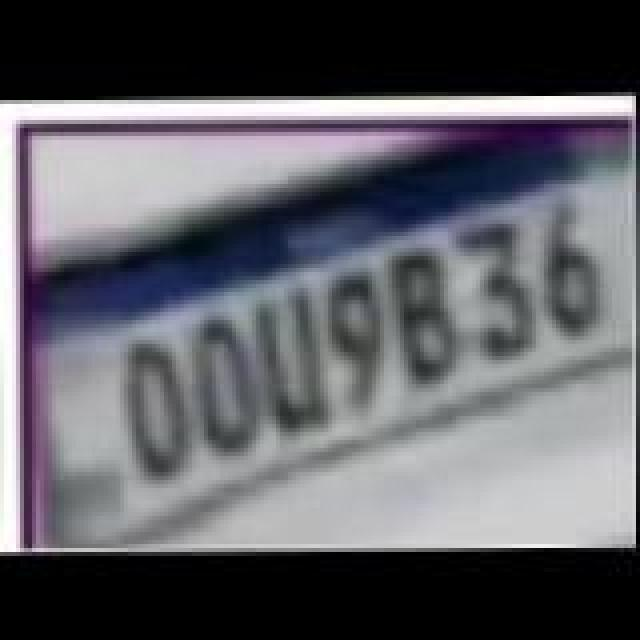3: (458, 216, 538, 356)
6: (544, 200, 612, 336)
9: (326, 268, 398, 408)
B: (390, 246, 470, 386)
O: (122, 334, 198, 478), (190, 318, 266, 458)
U: (254, 288, 334, 436)
